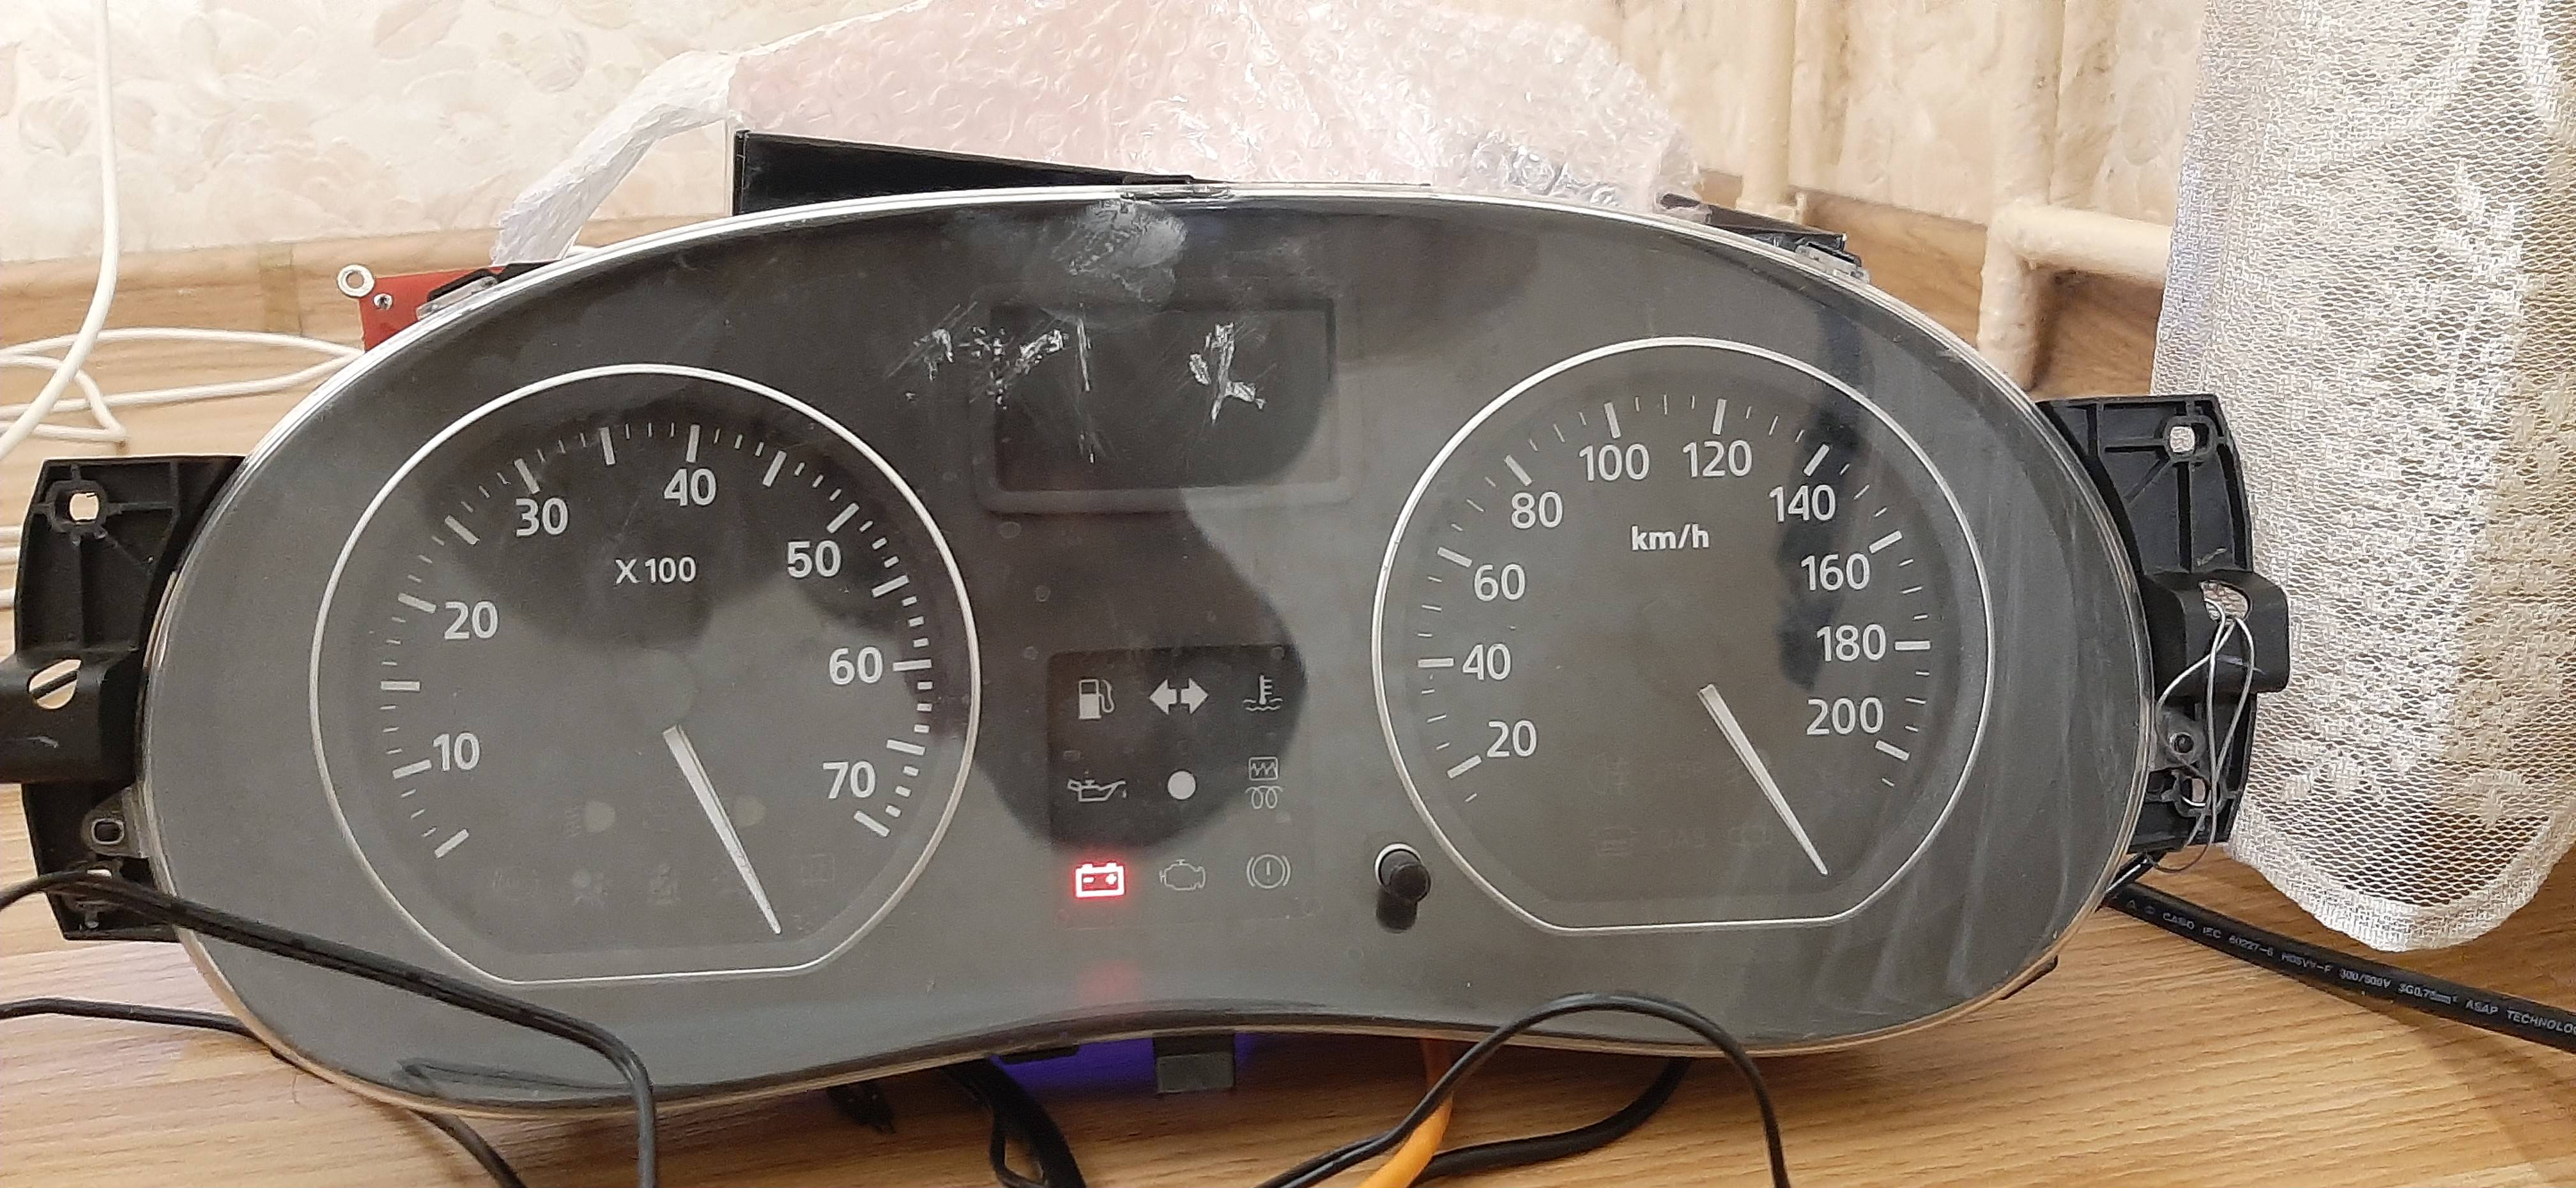accomulator4: (1069, 858, 1127, 904)
